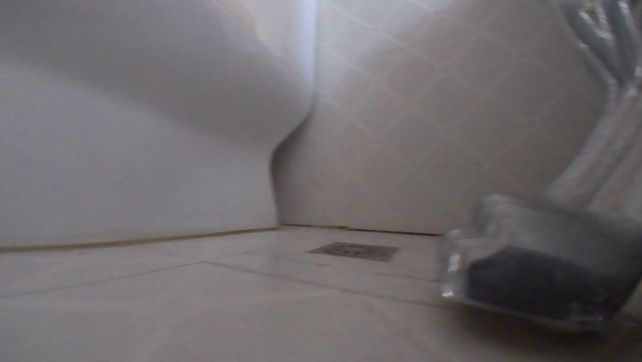toilet: (0, 0, 320, 250)
